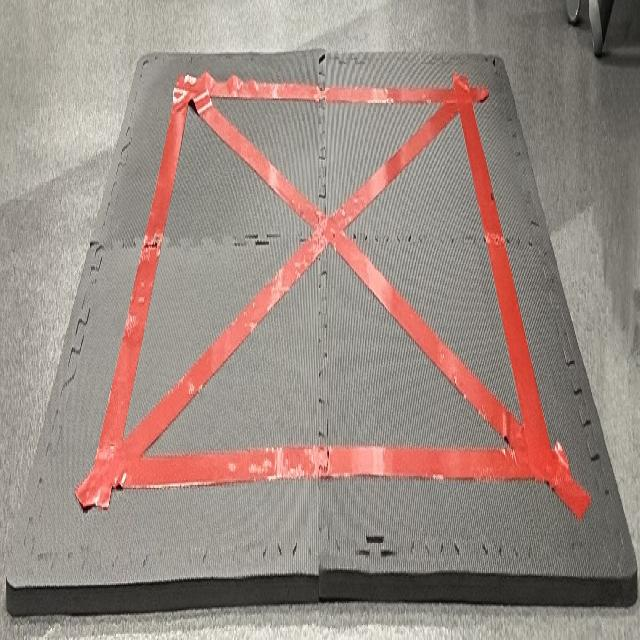landingPads: (7, 60, 638, 608)
